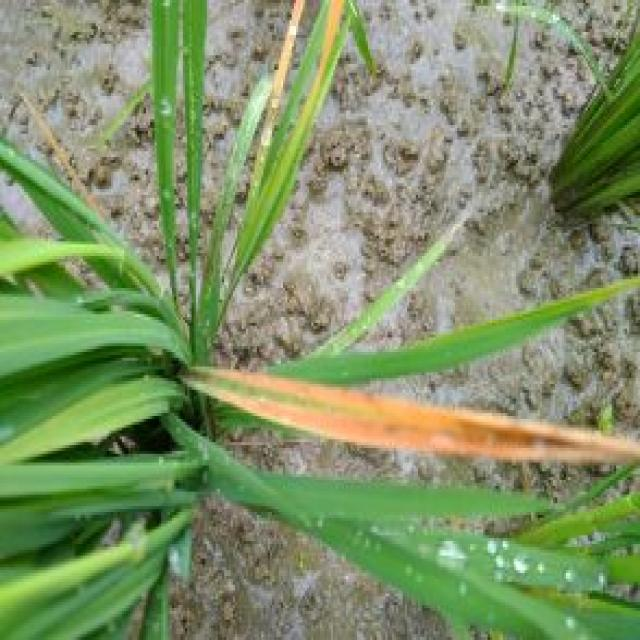Tungro: (185, 318, 640, 502)
